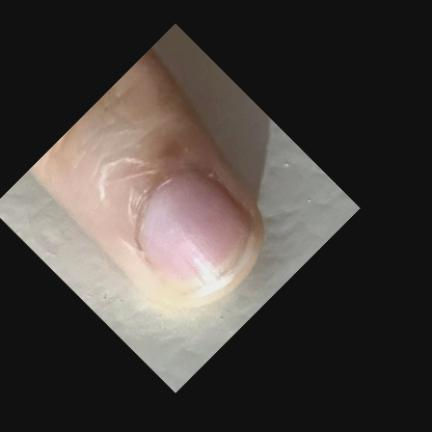Nail: (139, 173, 257, 301)
